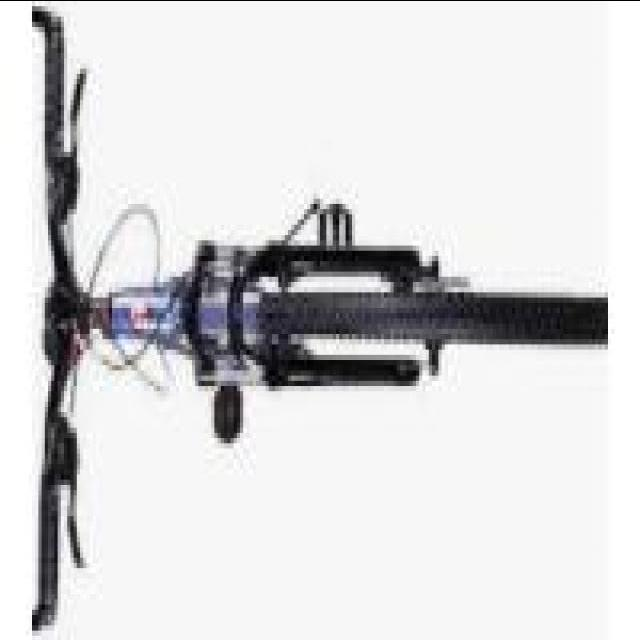bicycle: (20, 1, 602, 620)
